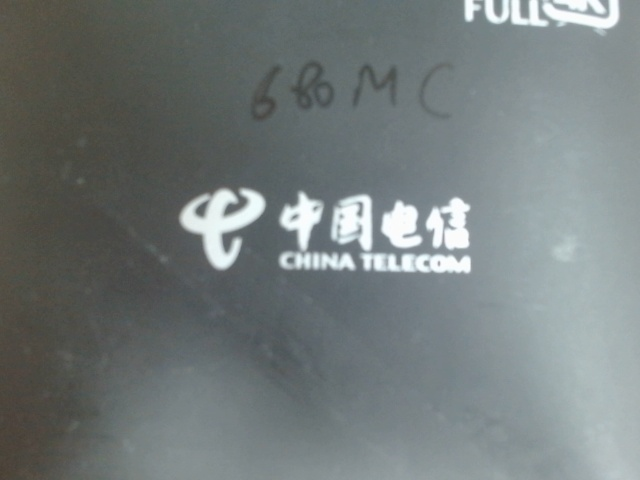AB_ChinaTelecom: (168, 166, 479, 283)
